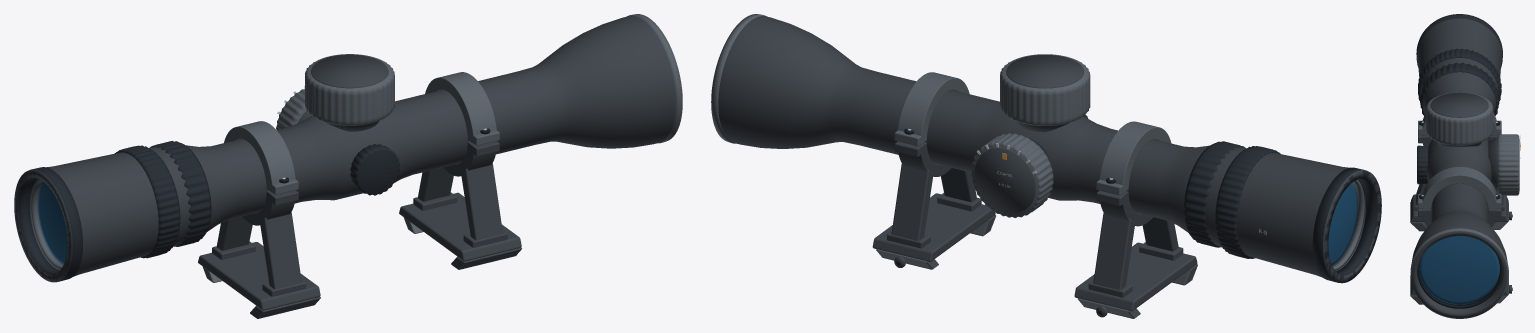
File: R8_8x_Scope_X50_Rail.fbx
3 renders of one model, left to right at view 1: azimuth 30°, elevation 25°; view 2: azimuth 150°, elevation 25°; view 3: azimuth 270°, elevation 25°, orthographic. The views are drawn at different scales.
Visible parts, largest first — view 1: 01 SHELL | curved objective and long rear neck, 11 TOP CAP RIM, 05 REAR LIP | dark scallop, 25.0 LOCAL CROWN | independent seat, 25.1 LOCAL CROWN | independent seat, 09 REAR COLLAR B | fine grooves, 08 REAR COLLAR A | wide shallow grooves, 23.0.-1 SUPPORT ARM, 23.1.-1 SUPPORT ARM, 17.0 RING UPPER, 17.1 RING UPPER, 12 TOP CAP FACE (+11 smaller); view 2: 01 SHELL | curved objective and long rear neck, 11 TOP CAP RIM, 05 REAR LIP | dark scallop, 25.1 LOCAL CROWN | independent seat, 15 RIGHT CAP FACE, 25.0 LOCAL CROWN | independent seat, 09 REAR COLLAR B | fine grooves, 08 REAR COLLAR A | wide shallow grooves, 23.0.1 SUPPORT ARM, 23.1.1 SUPPORT ARM, 14 RIGHT CAP RIM, 17.0 RING UPPER (+9 smaller); view 3: 01 SHELL | curved objective and long rear neck, 04 FRONT PANE | deep blue coat, 11 TOP CAP RIM, 17.0 RING UPPER, 14 RIGHT CAP RIM, 12 TOP CAP FACE, 09 REAR COLLAR B | fine grooves, 08 REAR COLLAR A | wide shallow grooves, 02 FRONT LIP | fine rim, 03 FRONT INNER | matte rim, 05 REAR LIP | dark scallop, 16 LEFT SMALL CAP (+10 smaller).
Boxes of the visible parts, x1,y1,x2,y2 form: 01 SHELL | curved objective and long rear neck: (14,16,675,282); 11 TOP CAP RIM: (305,54,394,125); 05 REAR LIP | dark scallop: (14,167,82,282); 25.0 LOCAL CROWN | independent seat: (399,192,521,261); 25.1 LOCAL CROWN | independent seat: (198,242,320,310); 09 REAR COLLAR B | fine grooves: (115,145,180,258); 08 REAR COLLAR A | wide shallow grooves: (150,141,211,246); 23.0.-1 SUPPORT ARM: (461,163,502,240); 23.1.-1 SUPPORT ARM: (260,212,301,289); 17.0 RING UPPER: (425,72,496,143); 17.1 RING UPPER: (224,121,295,193); 12 TOP CAP FACE: (311,54,388,88); 01 SHELL | curved objective and long rear neck: (718,16,1381,283); 11 TOP CAP RIM: (1000,54,1090,125); 05 REAR LIP | dark scallop: (1312,167,1381,282); 25.1 LOCAL CROWN | independent seat: (1074,242,1197,311); 15 RIGHT CAP FACE: (974,148,1035,213); 25.0 LOCAL CROWN | independent seat: (872,193,995,261); 09 REAR COLLAR B | fine grooves: (1215,146,1280,258); 08 REAR COLLAR A | wide shallow grooves: (1184,141,1245,247); 23.0.1 SUPPORT ARM: (891,164,933,240); 23.1.1 SUPPORT ARM: (1093,213,1134,290); 14 RIGHT CAP RIM: (971,133,1053,217); 17.0 RING UPPER: (897,72,969,144); 01 SHELL | curved objective and long rear neck: (1411,14,1507,317); 04 FRONT PANE | deep blue coat: (1419,236,1499,304); 11 TOP CAP RIM: (1426,92,1493,145); 17.0 RING UPPER: (1422,167,1497,208); 14 RIGHT CAP RIM: (1497,134,1519,195); 12 TOP CAP FACE: (1430,92,1488,117); 09 REAR COLLAR B | fine grooves: (1418,48,1501,104); 08 REAR COLLAR A | wide shallow grooves: (1420,62,1498,115); 02 FRONT LIP | fine rim: (1410,228,1508,318); 03 FRONT INNER | matte rim: (1417,256,1502,308); 05 REAR LIP | dark scallop: (1416,14,1502,67); 16 LEFT SMALL CAP: (1417,145,1427,184).
Bounding box in the file's own units: 38.72 × 12.15 × 8.14.
